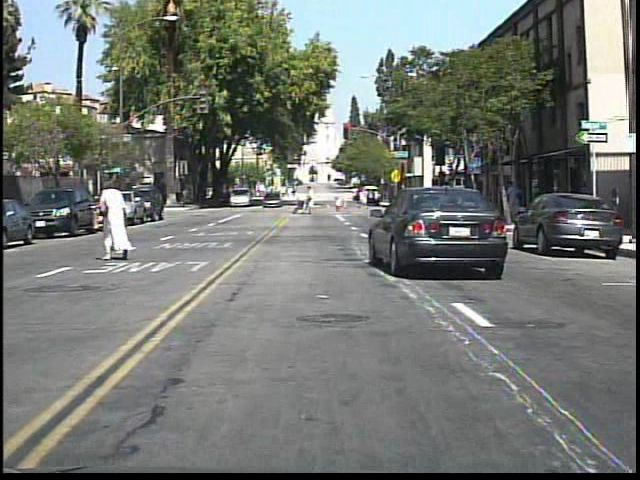person: (96, 173, 140, 266), (501, 173, 525, 224), (303, 184, 318, 216)
